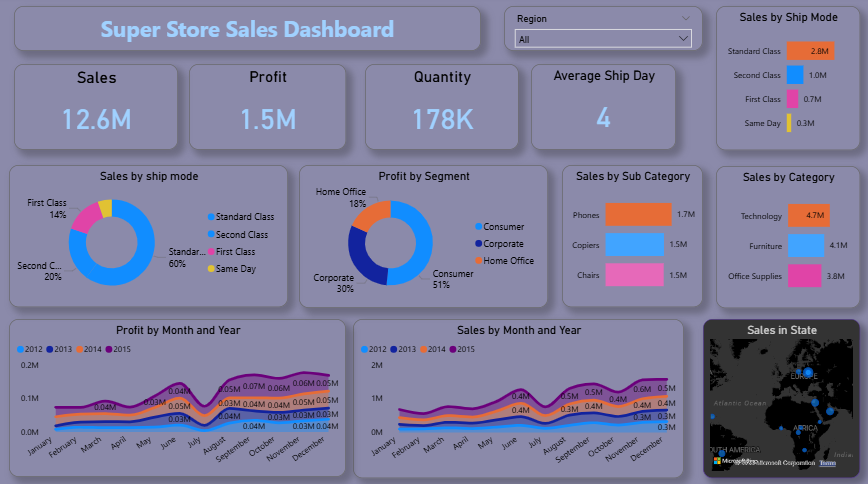

This screenshot's page, from the dashboard's own definition file:
{"tool":"powerbi","page":{"name":"DASHBOARD","canvas":[1280,720],"ordinal":0},"visuals":[{"type":"barChart","title":"Sales by Sub Category","fields":{"Category":["Orders.Sub-Category"],"Y":["Sum(Orders.Sales)"]},"box":[827.3,248.3,207.2,208.7],"z":0},{"type":"barChart","title":"Sales by Category","fields":{"Category":["Orders.Category"],"Y":["Sum(Orders.Sales)"]},"box":[1053.6,249.8,211.6,208.7],"z":1},{"type":"barChart","title":"Sales by Ship Mode","fields":{"Category":["Orders.Ship Mode"],"Y":["Sum(Orders.Sales)"]},"box":[1053.6,14.7,211.6,211.6],"z":2},{"type":"stackedAreaChart","title":" Sales by Month and Year","fields":{"Y":["Sum(Orders.Sales)"],"Category":["Orders.Order Date.Variation.Date Hierarchy.Month"],"Series":["Orders.Order Date.Variation.Date Hierarchy.Year"]},"box":[520.2,474.6,486.4,233.6],"z":3},{"type":"stackedAreaChart","title":"Profit by Month and Year","fields":{"Category":["Orders.Order Date.Variation.Date Hierarchy.Month"],"Series":["Orders.Order Date.Variation.Date Hierarchy.Year"],"Y":["Sum(Orders.Profit)"]},"box":[14.7,474.6,495.2,232.2],"z":4},{"type":"map","title":" Sales in State","fields":{"Category":["Orders.Region"],"Size":["Sum(Orders.Sales)"]},"box":[1034.4,474.6,230.7,233.6],"z":5},{"type":"donutChart","title":"Profit by Segment","fields":{"Category":["Orders.Segment"],"Y":["Sum(Orders.Sales)"]},"box":[440.8,248.3,365.9,210.1],"z":6},{"type":"donutChart","title":"Sales by ship mode","fields":{"Y":["Sum(Orders.Sales)"],"Category":["Orders.Ship Mode"]},"box":[14.7,248.3,410,208.7],"z":8},{"type":"slicer","fields":{"Values":["Orders.Region"]},"box":[742,14.7,292.4,66.1],"z":9},{"type":"textbox","box":[22,14.7,686.2,66.1],"z":10},{"type":"card","title":"Sales","fields":{"Values":["Sum(Orders.Sales)"]},"box":[22,99.9,241,126.4],"z":11},{"type":"card","title":"Profit","fields":{"Values":["Sum(Orders.Profit)"]},"box":[279.2,99.9,230.7,126.4],"z":12},{"type":"card","title":"Quantity","fields":{"Values":["Sum(Orders.Quantity)"]},"box":[537.8,99.9,226.3,126.4],"z":13},{"type":"card","title":"Average Ship Day","fields":{"Values":["Avg(Orders.AvgDeliveryDay)"]},"box":[781.7,99.9,213.1,126.4],"z":14}]}

Visuals, with their boxes in screenshot pixels (x1, y1, x2, y2), scaled from the page's 1280x720 canvas onto the 868x484 screenshot:
"Sales by Sub Category" barChart: {"left": 561, "top": 167, "right": 702, "bottom": 307}
"Sales by Category" barChart: {"left": 714, "top": 168, "right": 858, "bottom": 308}
"Sales by Ship Mode" barChart: {"left": 714, "top": 10, "right": 858, "bottom": 152}
" Sales by Month and Year" stackedAreaChart: {"left": 353, "top": 319, "right": 683, "bottom": 476}
"Profit by Month and Year" stackedAreaChart: {"left": 10, "top": 319, "right": 346, "bottom": 475}
" Sales in State" map: {"left": 701, "top": 319, "right": 858, "bottom": 476}
"Profit by Segment" donutChart: {"left": 299, "top": 167, "right": 547, "bottom": 308}
"Sales by ship mode" donutChart: {"left": 10, "top": 167, "right": 288, "bottom": 307}
slicer - Orders.Region: {"left": 503, "top": 10, "right": 701, "bottom": 54}
textbox: {"left": 15, "top": 10, "right": 480, "bottom": 54}
"Sales" card: {"left": 15, "top": 67, "right": 178, "bottom": 152}
"Profit" card: {"left": 189, "top": 67, "right": 346, "bottom": 152}
"Quantity" card: {"left": 365, "top": 67, "right": 518, "bottom": 152}
"Average Ship Day" card: {"left": 530, "top": 67, "right": 675, "bottom": 152}
